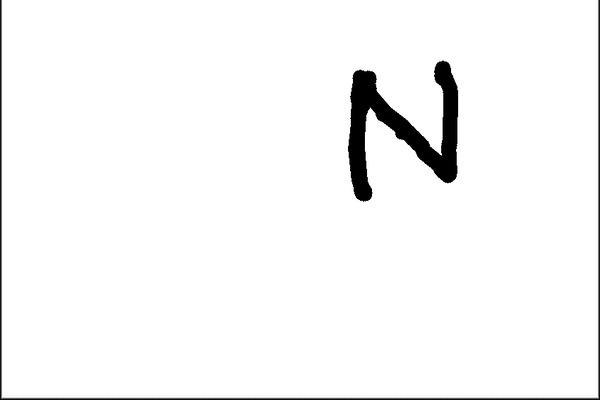N: (341, 54, 464, 204)
